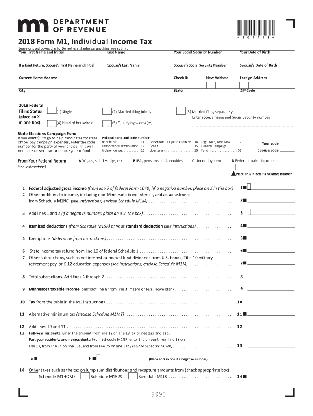checkbox: (27, 370, 39, 380), (127, 370, 139, 380), (101, 106, 113, 115), (205, 80, 217, 89), (79, 371, 91, 380), (46, 106, 57, 115), (46, 119, 57, 128), (101, 119, 112, 128), (175, 106, 186, 115), (238, 80, 249, 89), (230, 161, 237, 172), (95, 351, 102, 362), (245, 181, 251, 191), (245, 206, 251, 216)
textbox: (16, 75, 173, 89), (16, 88, 173, 102), (17, 63, 106, 77), (17, 50, 105, 63), (106, 62, 172, 77), (239, 87, 304, 102), (171, 87, 238, 101), (106, 50, 172, 63), (172, 50, 238, 63), (173, 63, 238, 76), (238, 63, 297, 77), (238, 50, 296, 64)
textline: (189, 119, 294, 128), (75, 162, 126, 173), (236, 162, 296, 171), (246, 194, 297, 204), (246, 231, 297, 241), (246, 219, 296, 229), (246, 244, 296, 254), (247, 256, 297, 266), (37, 352, 87, 362), (130, 163, 185, 172), (250, 181, 296, 191), (99, 352, 149, 361), (246, 370, 296, 379), (245, 283, 298, 291), (244, 295, 297, 303), (245, 271, 297, 279), (247, 308, 299, 316), (246, 321, 298, 329), (246, 340, 298, 348), (251, 206, 297, 215), (190, 162, 226, 171), (278, 139, 297, 145), (279, 146, 297, 152)
